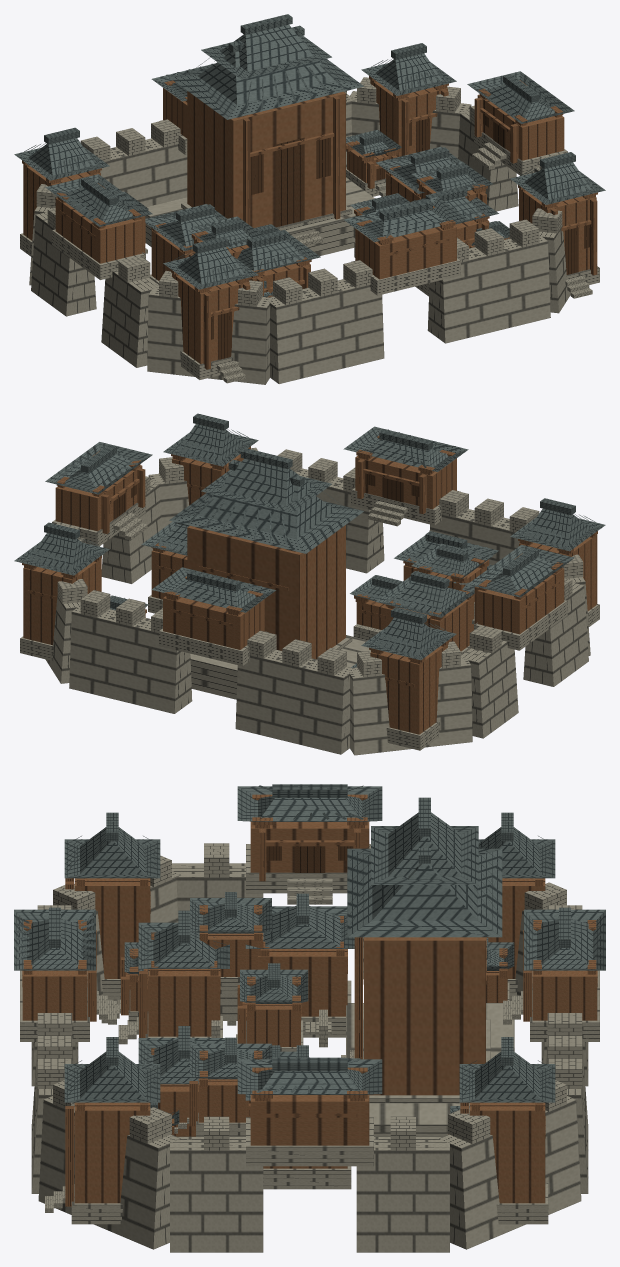
The model's file is city2-lod0.glb.
The picture shows the model from 3 angles, top to bottom: view 1: azimuth 30°, elevation 25°; view 2: azimuth 150°, elevation 25°; view 3: azimuth 270°, elevation 25°; orthographic projection. The views are drawn at different scales.
Size of the model in its own units: 2.03 by 0.901 by 1.65.
1 material, 1 textured.
